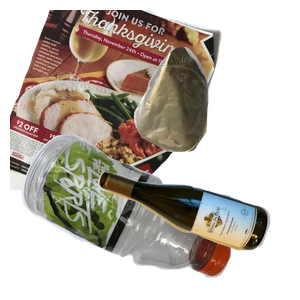glass: (95, 168, 300, 300)
paper: (10, 10, 224, 190)
plastic: (19, 132, 242, 300)
trash: (131, 44, 300, 189)
